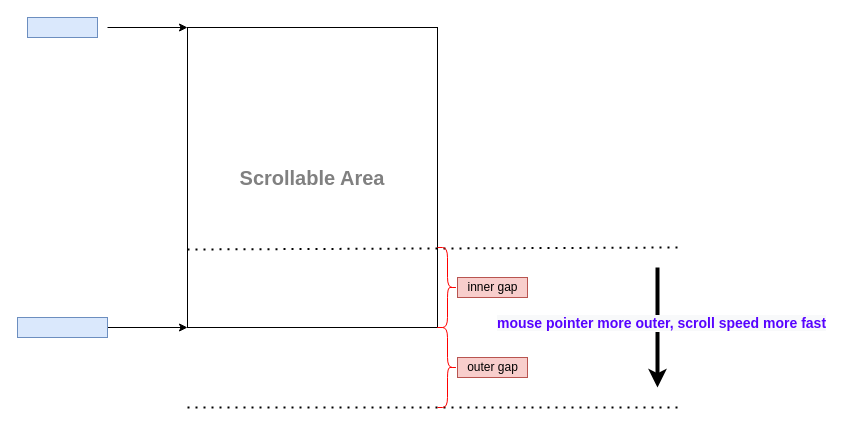
The diagram is 843 pixels wide and 427 high, and some of its shapes have lost their labels. The shapes that lost their labels are listed below. From the top down, each one's centre as x and y in pixels, then its label:
(62,27): top bound
(62,327): bottom bound
